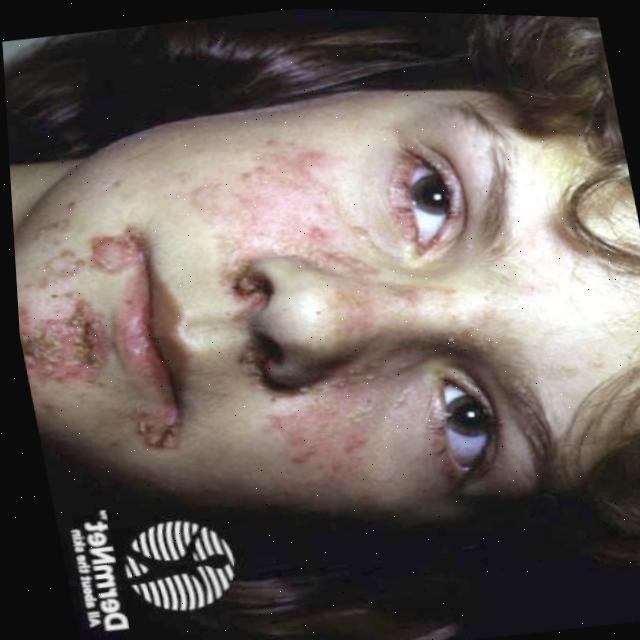lupus-detected: (5, 80, 548, 585)
